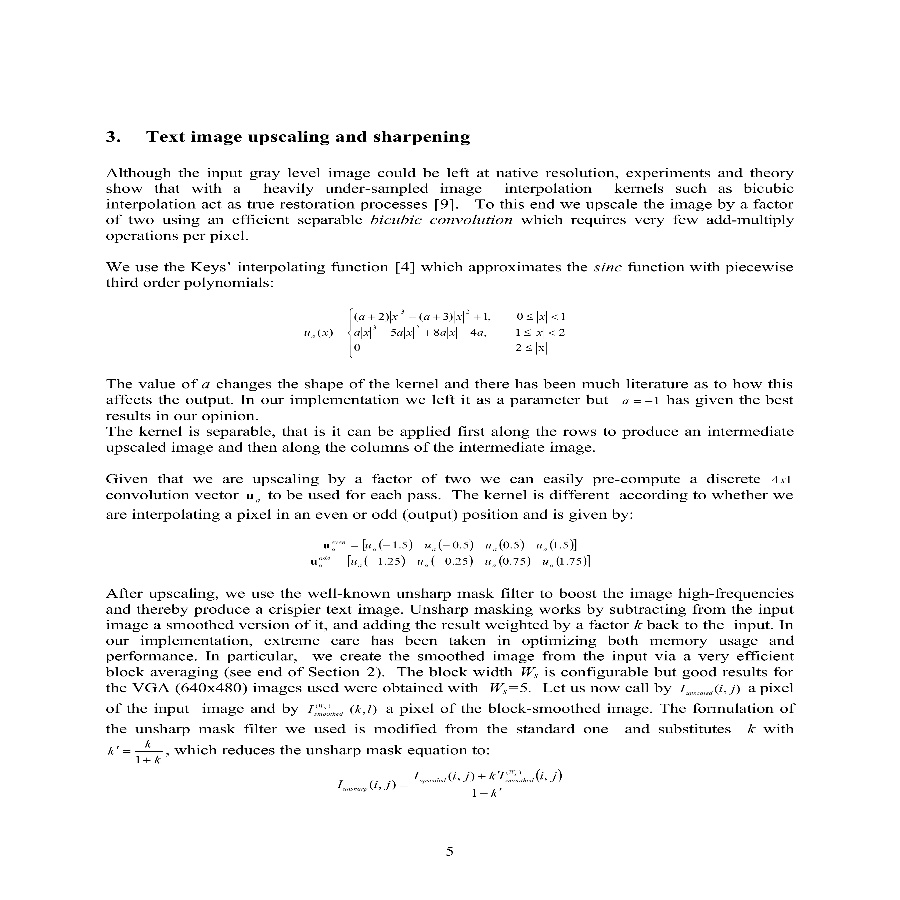eq: (298, 302, 570, 363), (307, 533, 595, 573), (337, 766, 569, 800)
